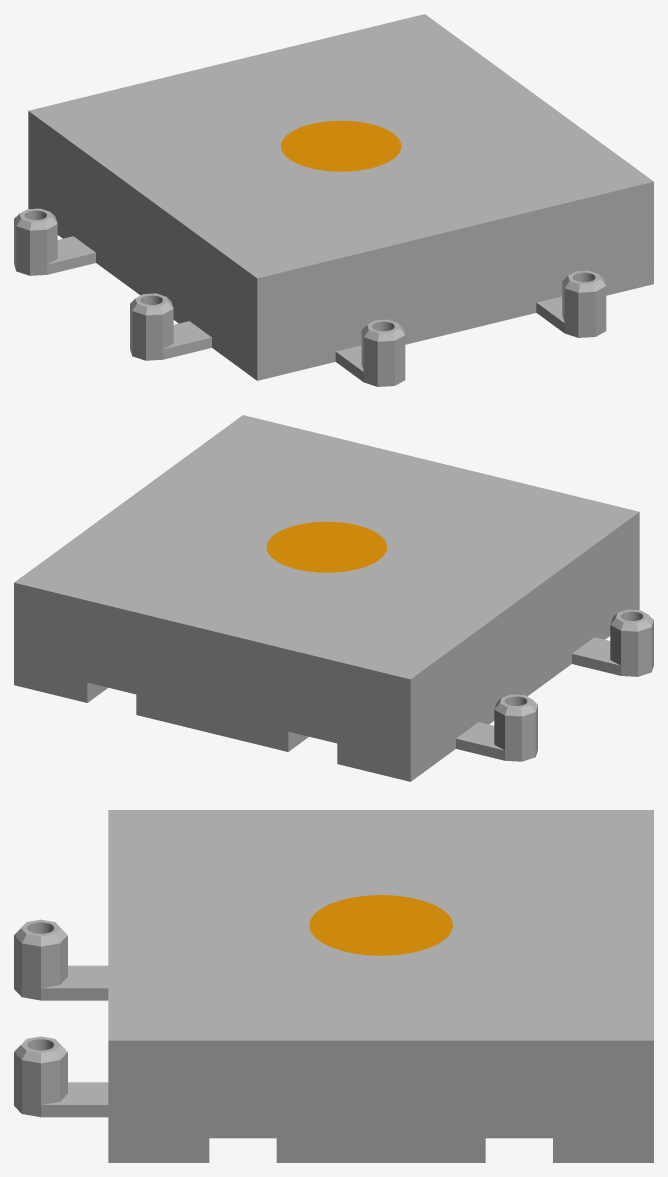
The model's file is circuits-Baseplate.glb.
3 views of the same model, one above another, from view 1: azimuth 30°, elevation 25°; view 2: azimuth 150°, elevation 25°; view 3: azimuth 270°, elevation 25° (orthographic). The views are drawn at different scales.
Visible parts, largest first — view 1: BasePlate.003; view 2: BasePlate.003; view 3: BasePlate.003.
Part boxes in pixels (<box>): BasePlate.003: <box>14,14,653,386</box>; BasePlate.003: <box>14,415,653,781</box>; BasePlate.003: <box>14,810,653,1162</box>.
Bounding box in the file's own units: 0.095 × 0.02 × 0.095.
